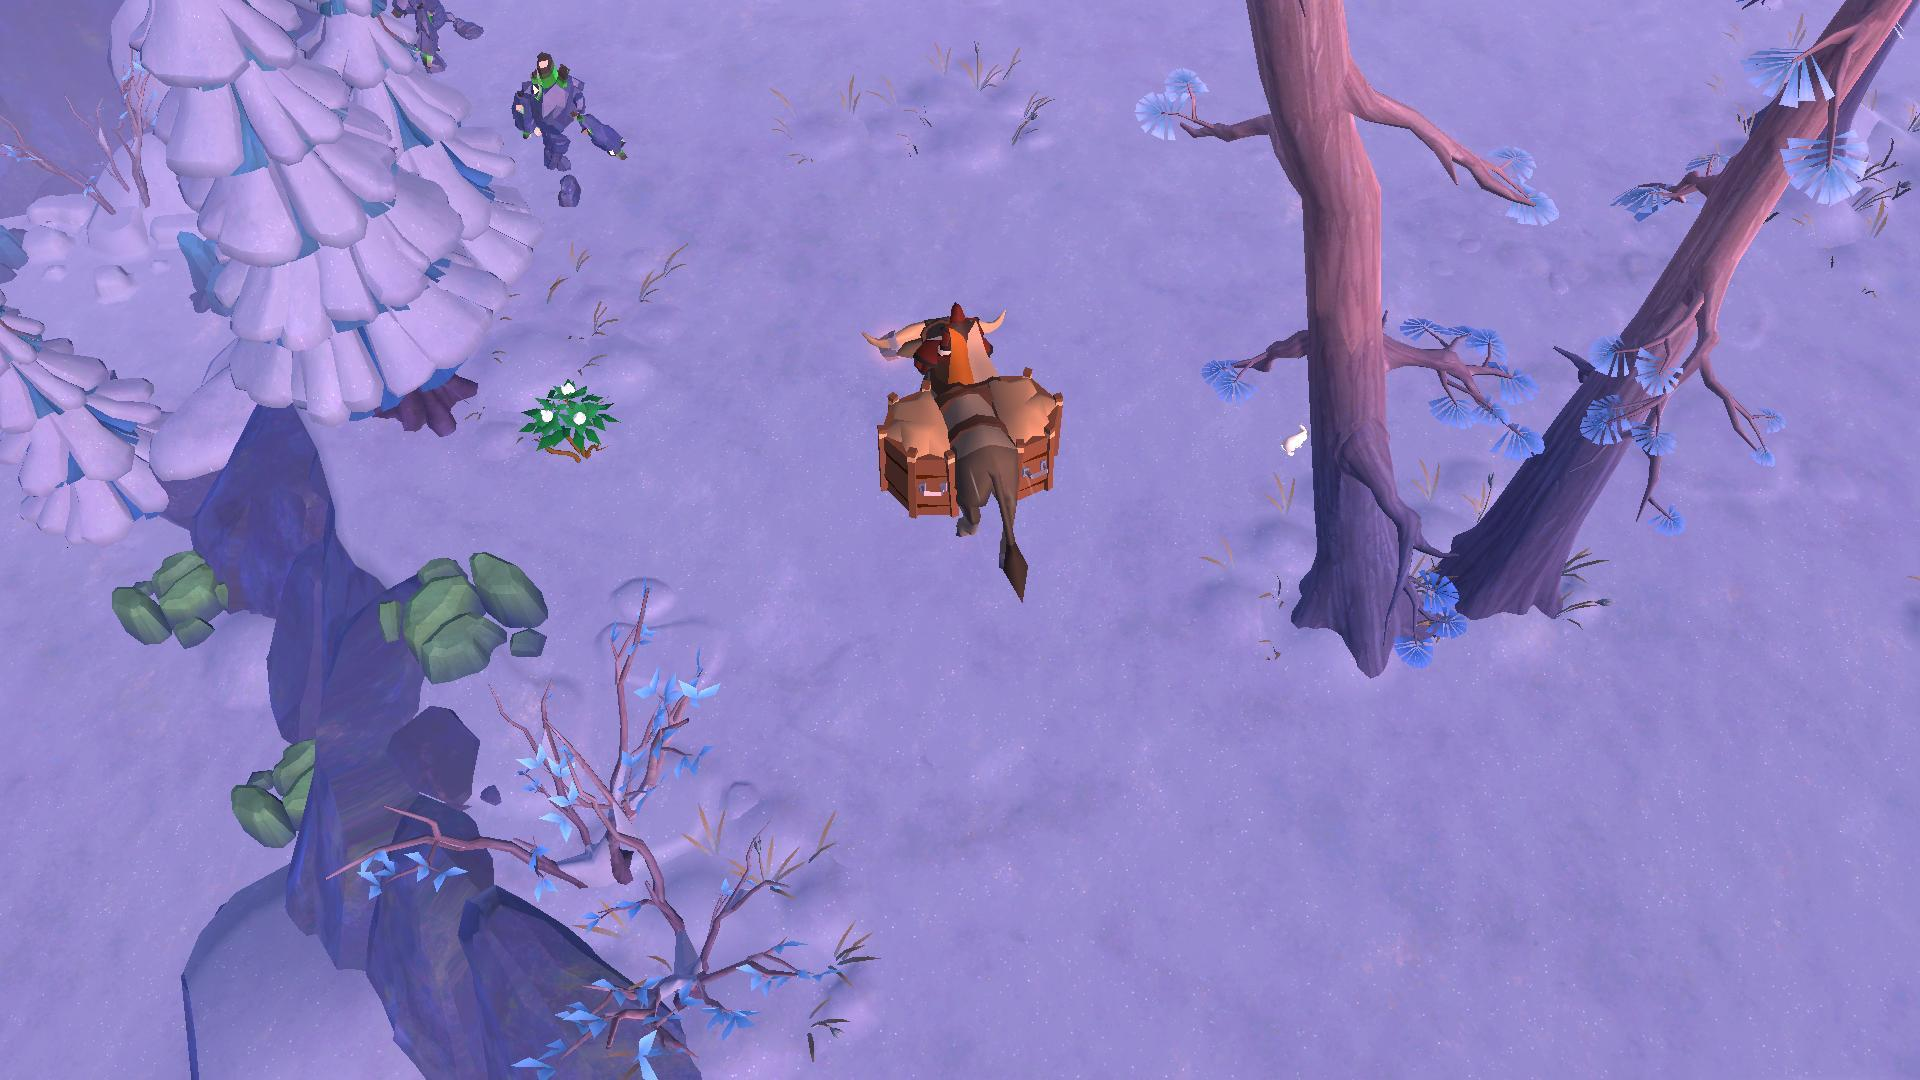fiber_t3: (520, 381, 618, 460)
rock_t3: (380, 534, 554, 682), (104, 545, 239, 654), (216, 735, 331, 852)
